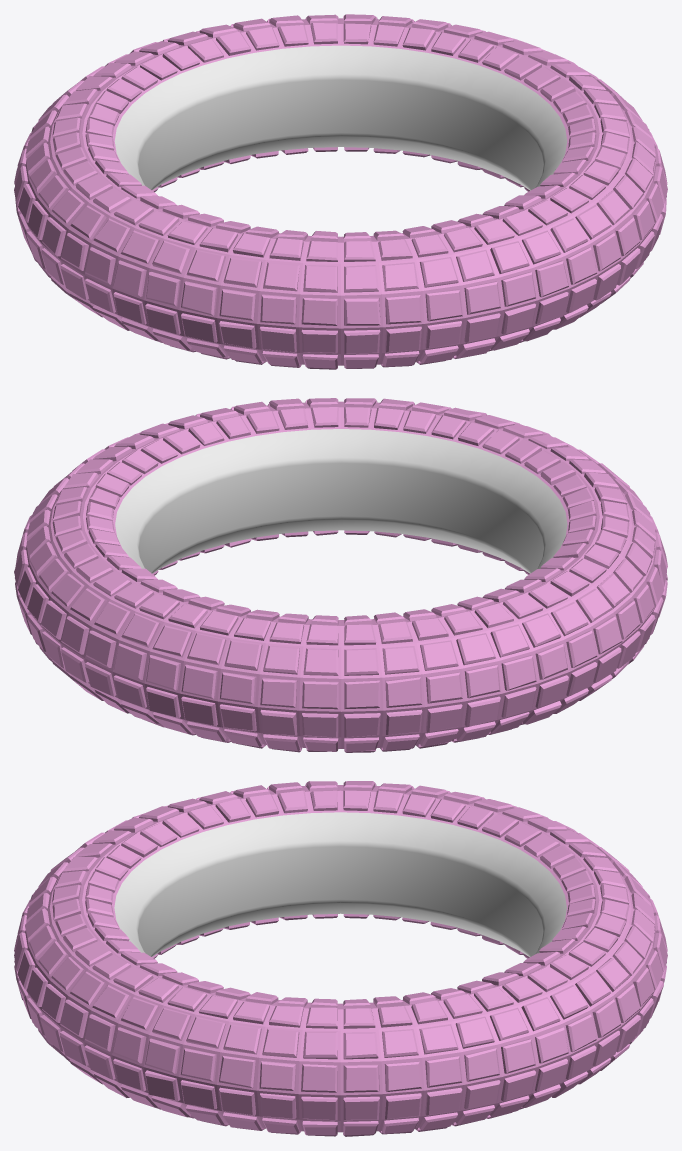
File: bikeTirePink.glb
3 renders of one model, top to bottom at view 1: azimuth 30°, elevation 25°; view 2: azimuth 150°, elevation 25°; view 3: azimuth 270°, elevation 25°, orthographic.
Visible parts, largest first — view 1: bikeTirePink; view 2: bikeTirePink; view 3: bikeTirePink.
Part boxes in pixels (x1,y1,x2,y2): bikeTirePink: (14,14,667,369); bikeTirePink: (14,398,667,752); bikeTirePink: (14,781,667,1136).
Size of the model in its own units: 2.53 by 0.5359 by 2.53.
